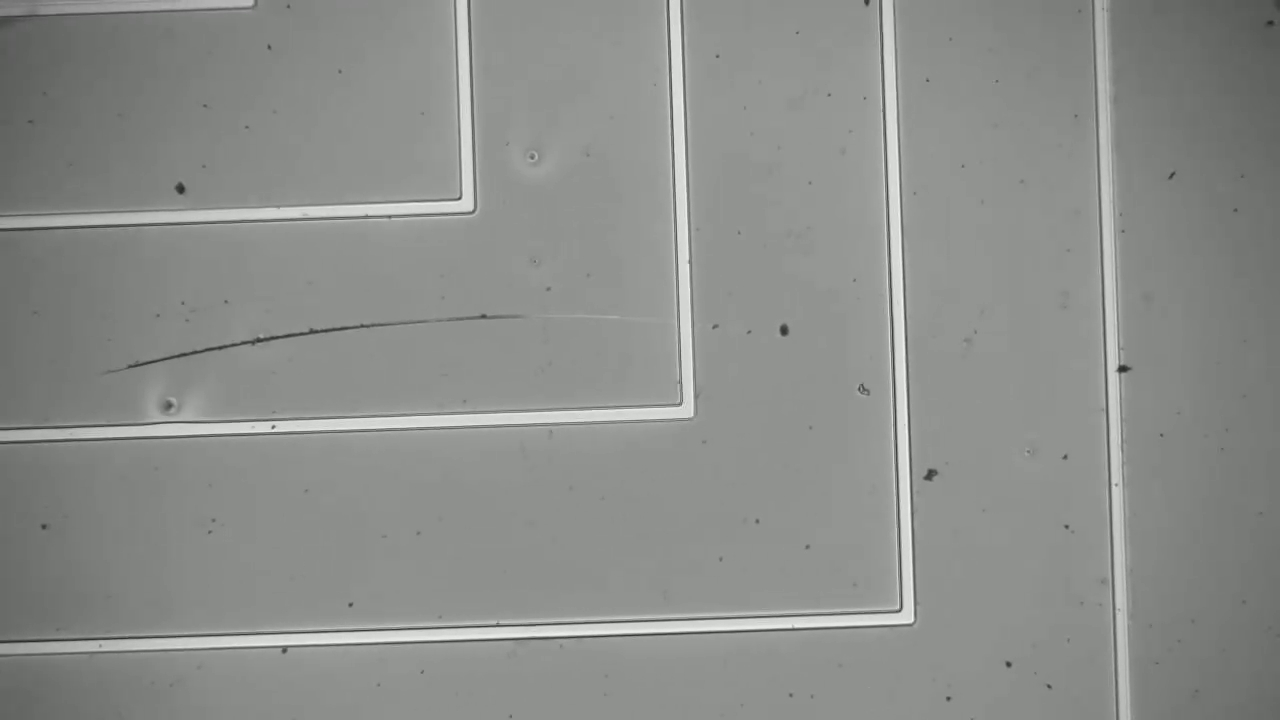scratch: (104, 278, 532, 396)
stains_enbedded: (1094, 343, 1143, 387)
